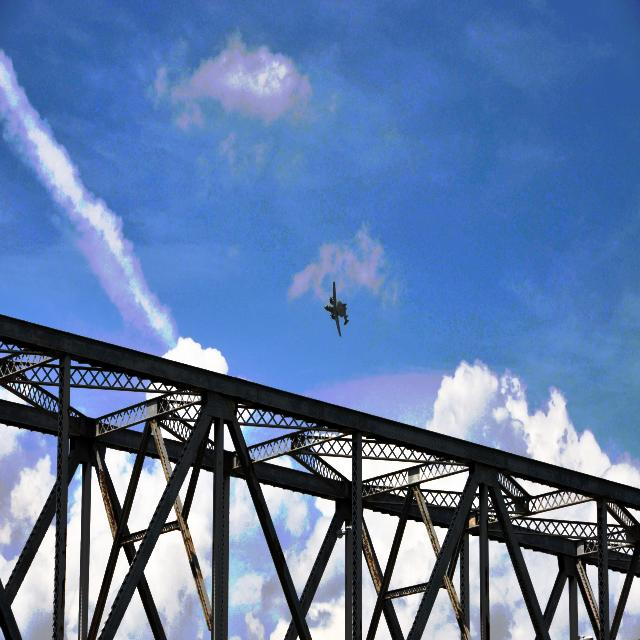Aircraft: (319, 274, 356, 345)
